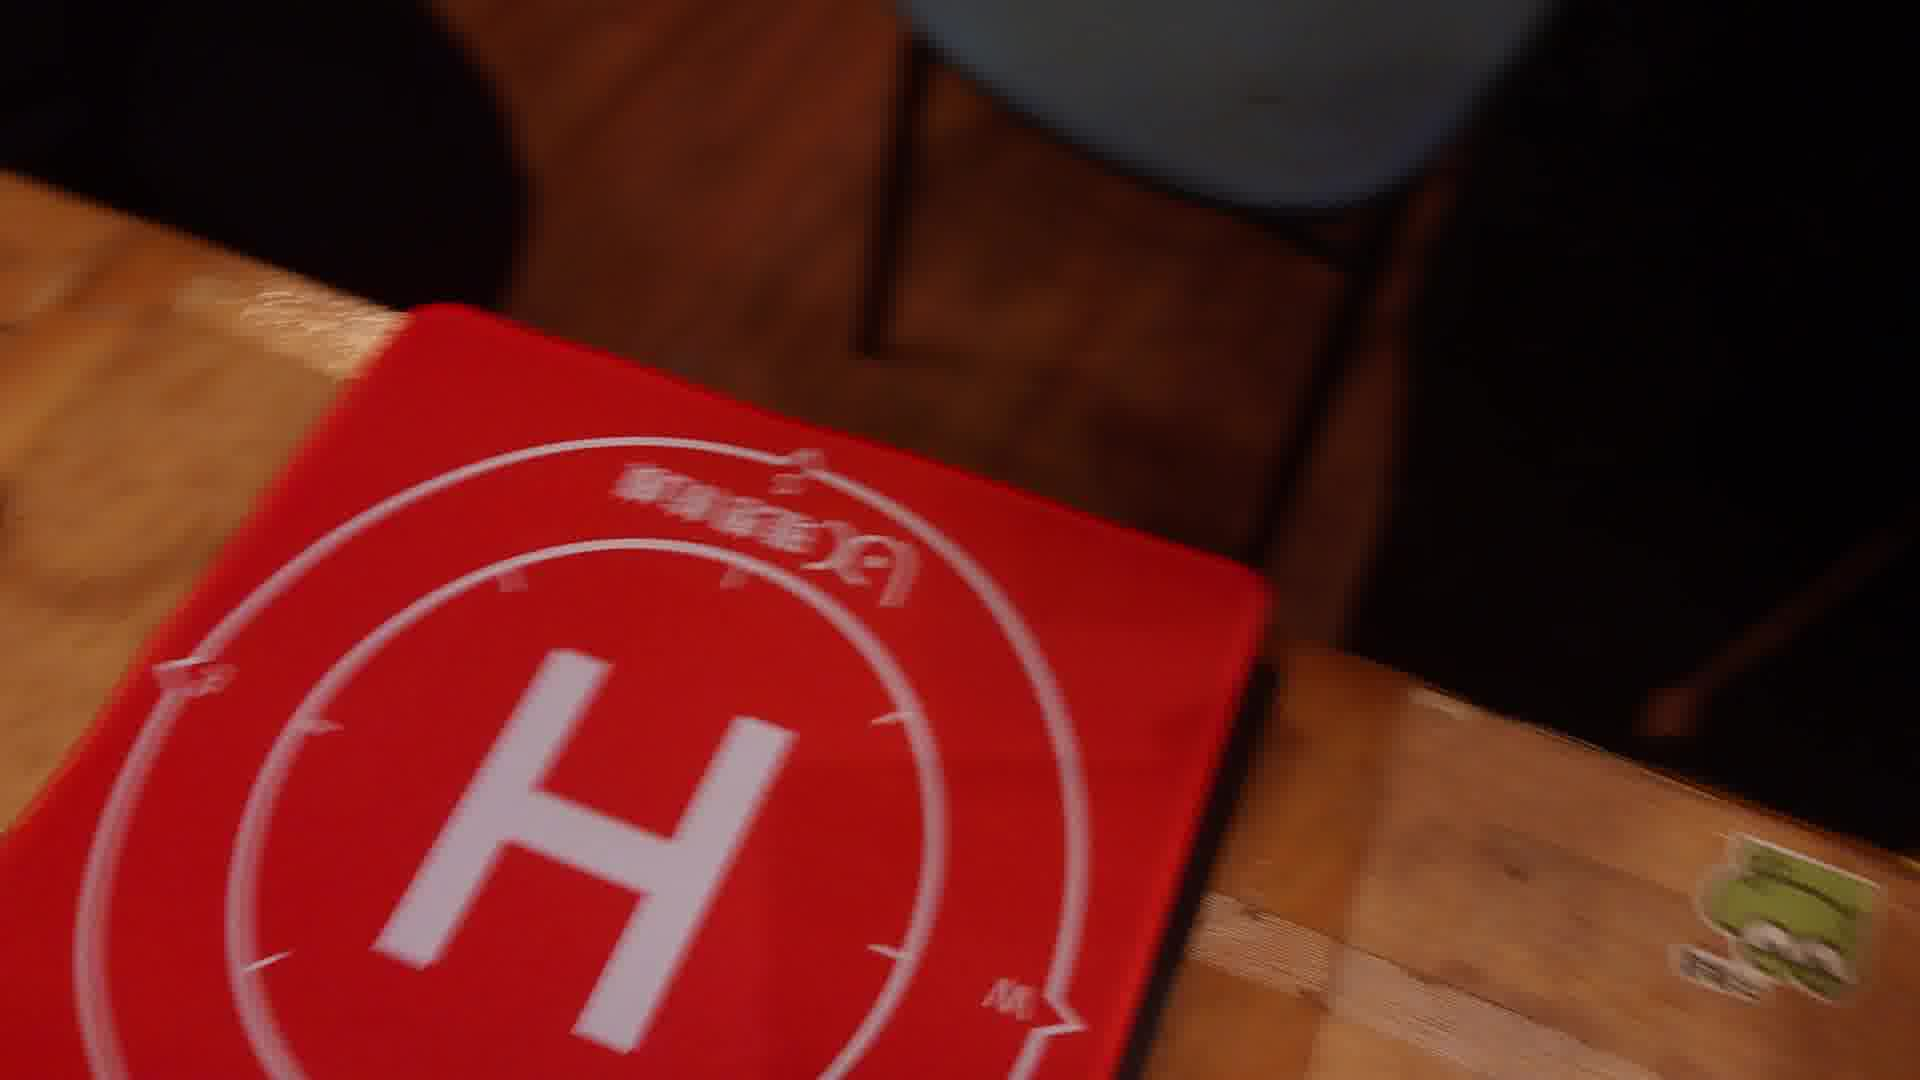H: (372, 645, 796, 1056)
